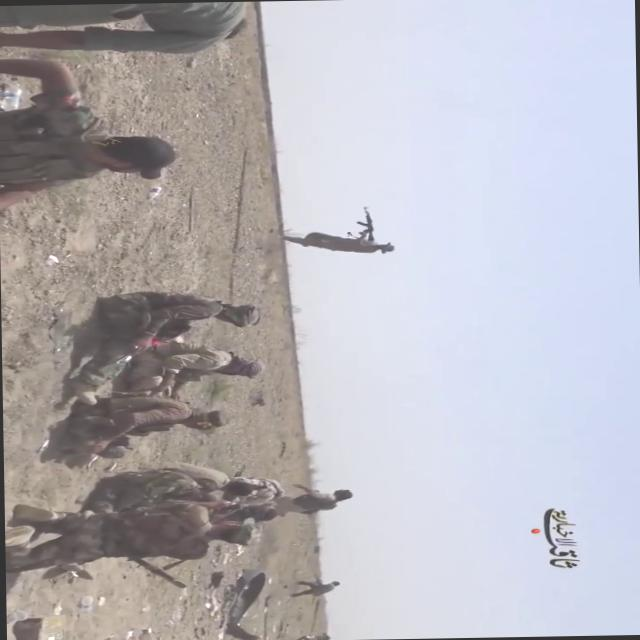long weapon: (352, 202, 380, 242)
